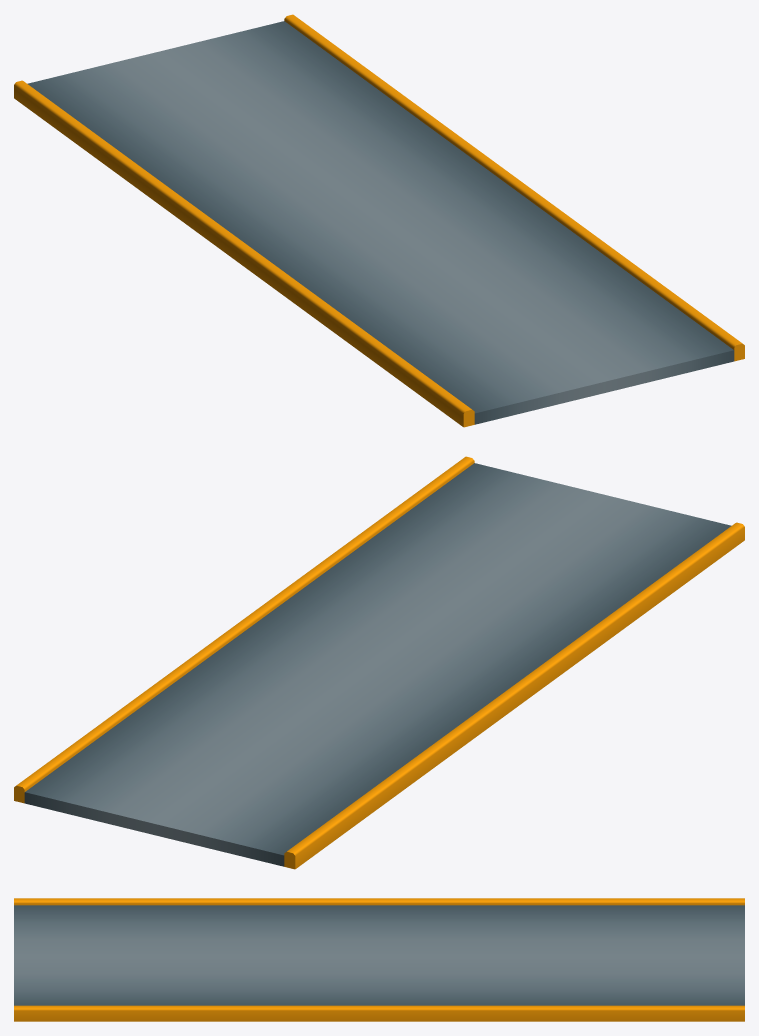
File: platform_001.fbx
The picture shows the model from 3 angles, top to bottom: view 1: azimuth 30°, elevation 25°; view 2: azimuth 150°, elevation 25°; view 3: azimuth 270°, elevation 25°; orthographic projection. The views are drawn at different scales.
Parts seen in each view (by area): view 1: platform_001; view 2: platform_001; view 3: platform_001.
Part boxes in pixels (bbox=[...]): platform_001: bbox=[14, 14, 744, 427]; platform_001: bbox=[14, 456, 744, 869]; platform_001: bbox=[14, 898, 744, 1021].
Bounding box in the file's own units: 1300 × 3600 × 69.59.
